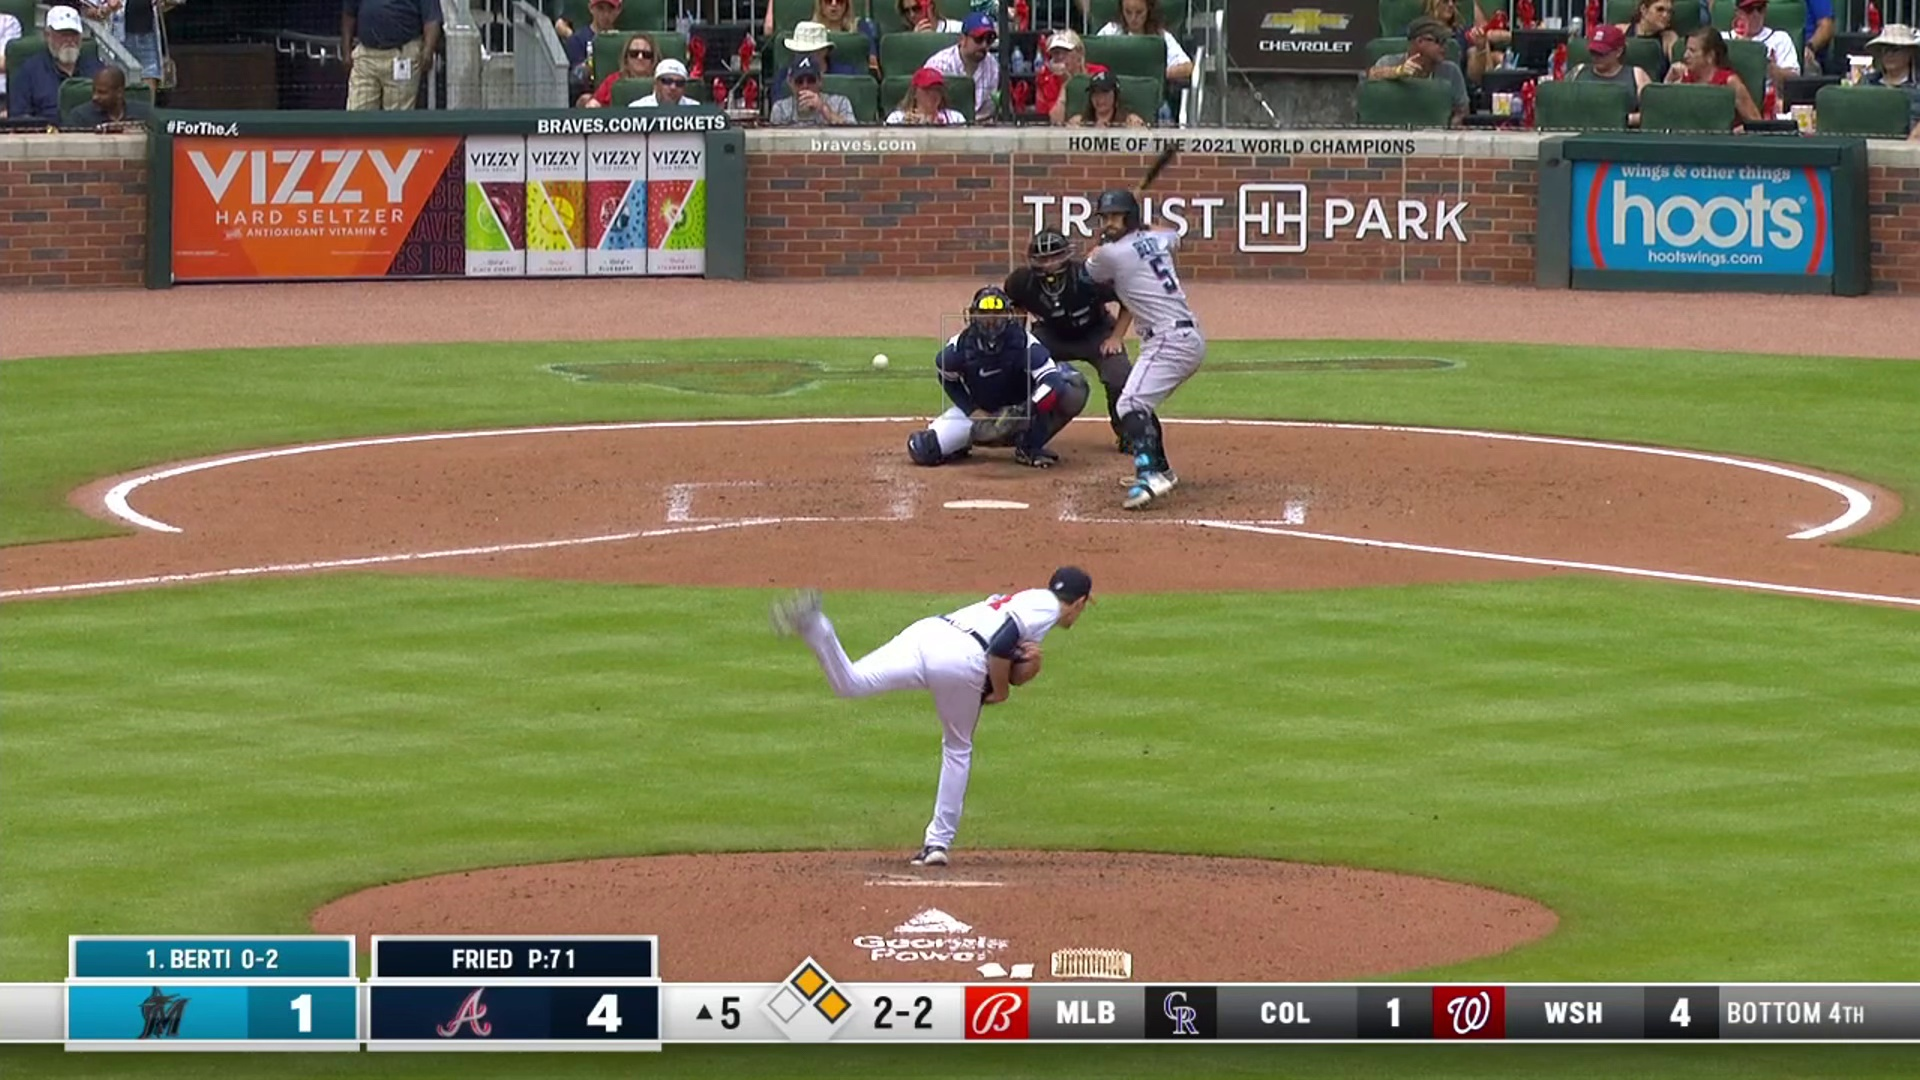baseball: (872, 352, 887, 369)
